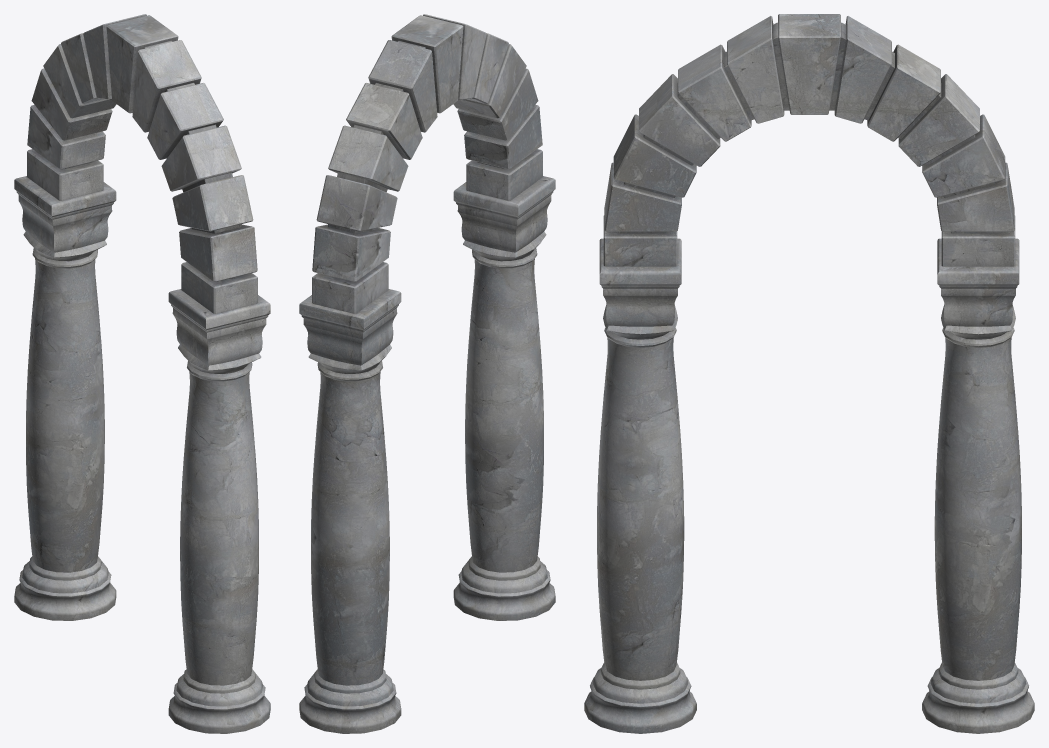
The model's file is portal_arch.glb.
The picture shows the model from 3 angles, left to right: view 1: azimuth 30°, elevation 25°; view 2: azimuth 150°, elevation 25°; view 3: azimuth 270°, elevation 25°; orthographic projection. The views are drawn at different scales.
Visible parts, largest first — view 1: Torbogen_0; view 2: Torbogen_0; view 3: Torbogen_0.
Boxes of the visible parts, x1,y1,x2,y2 form: Torbogen_0: [14, 14, 270, 733]; Torbogen_0: [299, 14, 555, 733]; Torbogen_0: [584, 14, 1034, 733].
Bounding box in the file's own units: 0.535 × 3.59 × 2.14.
Materials: 1 (1 with a texture image).
